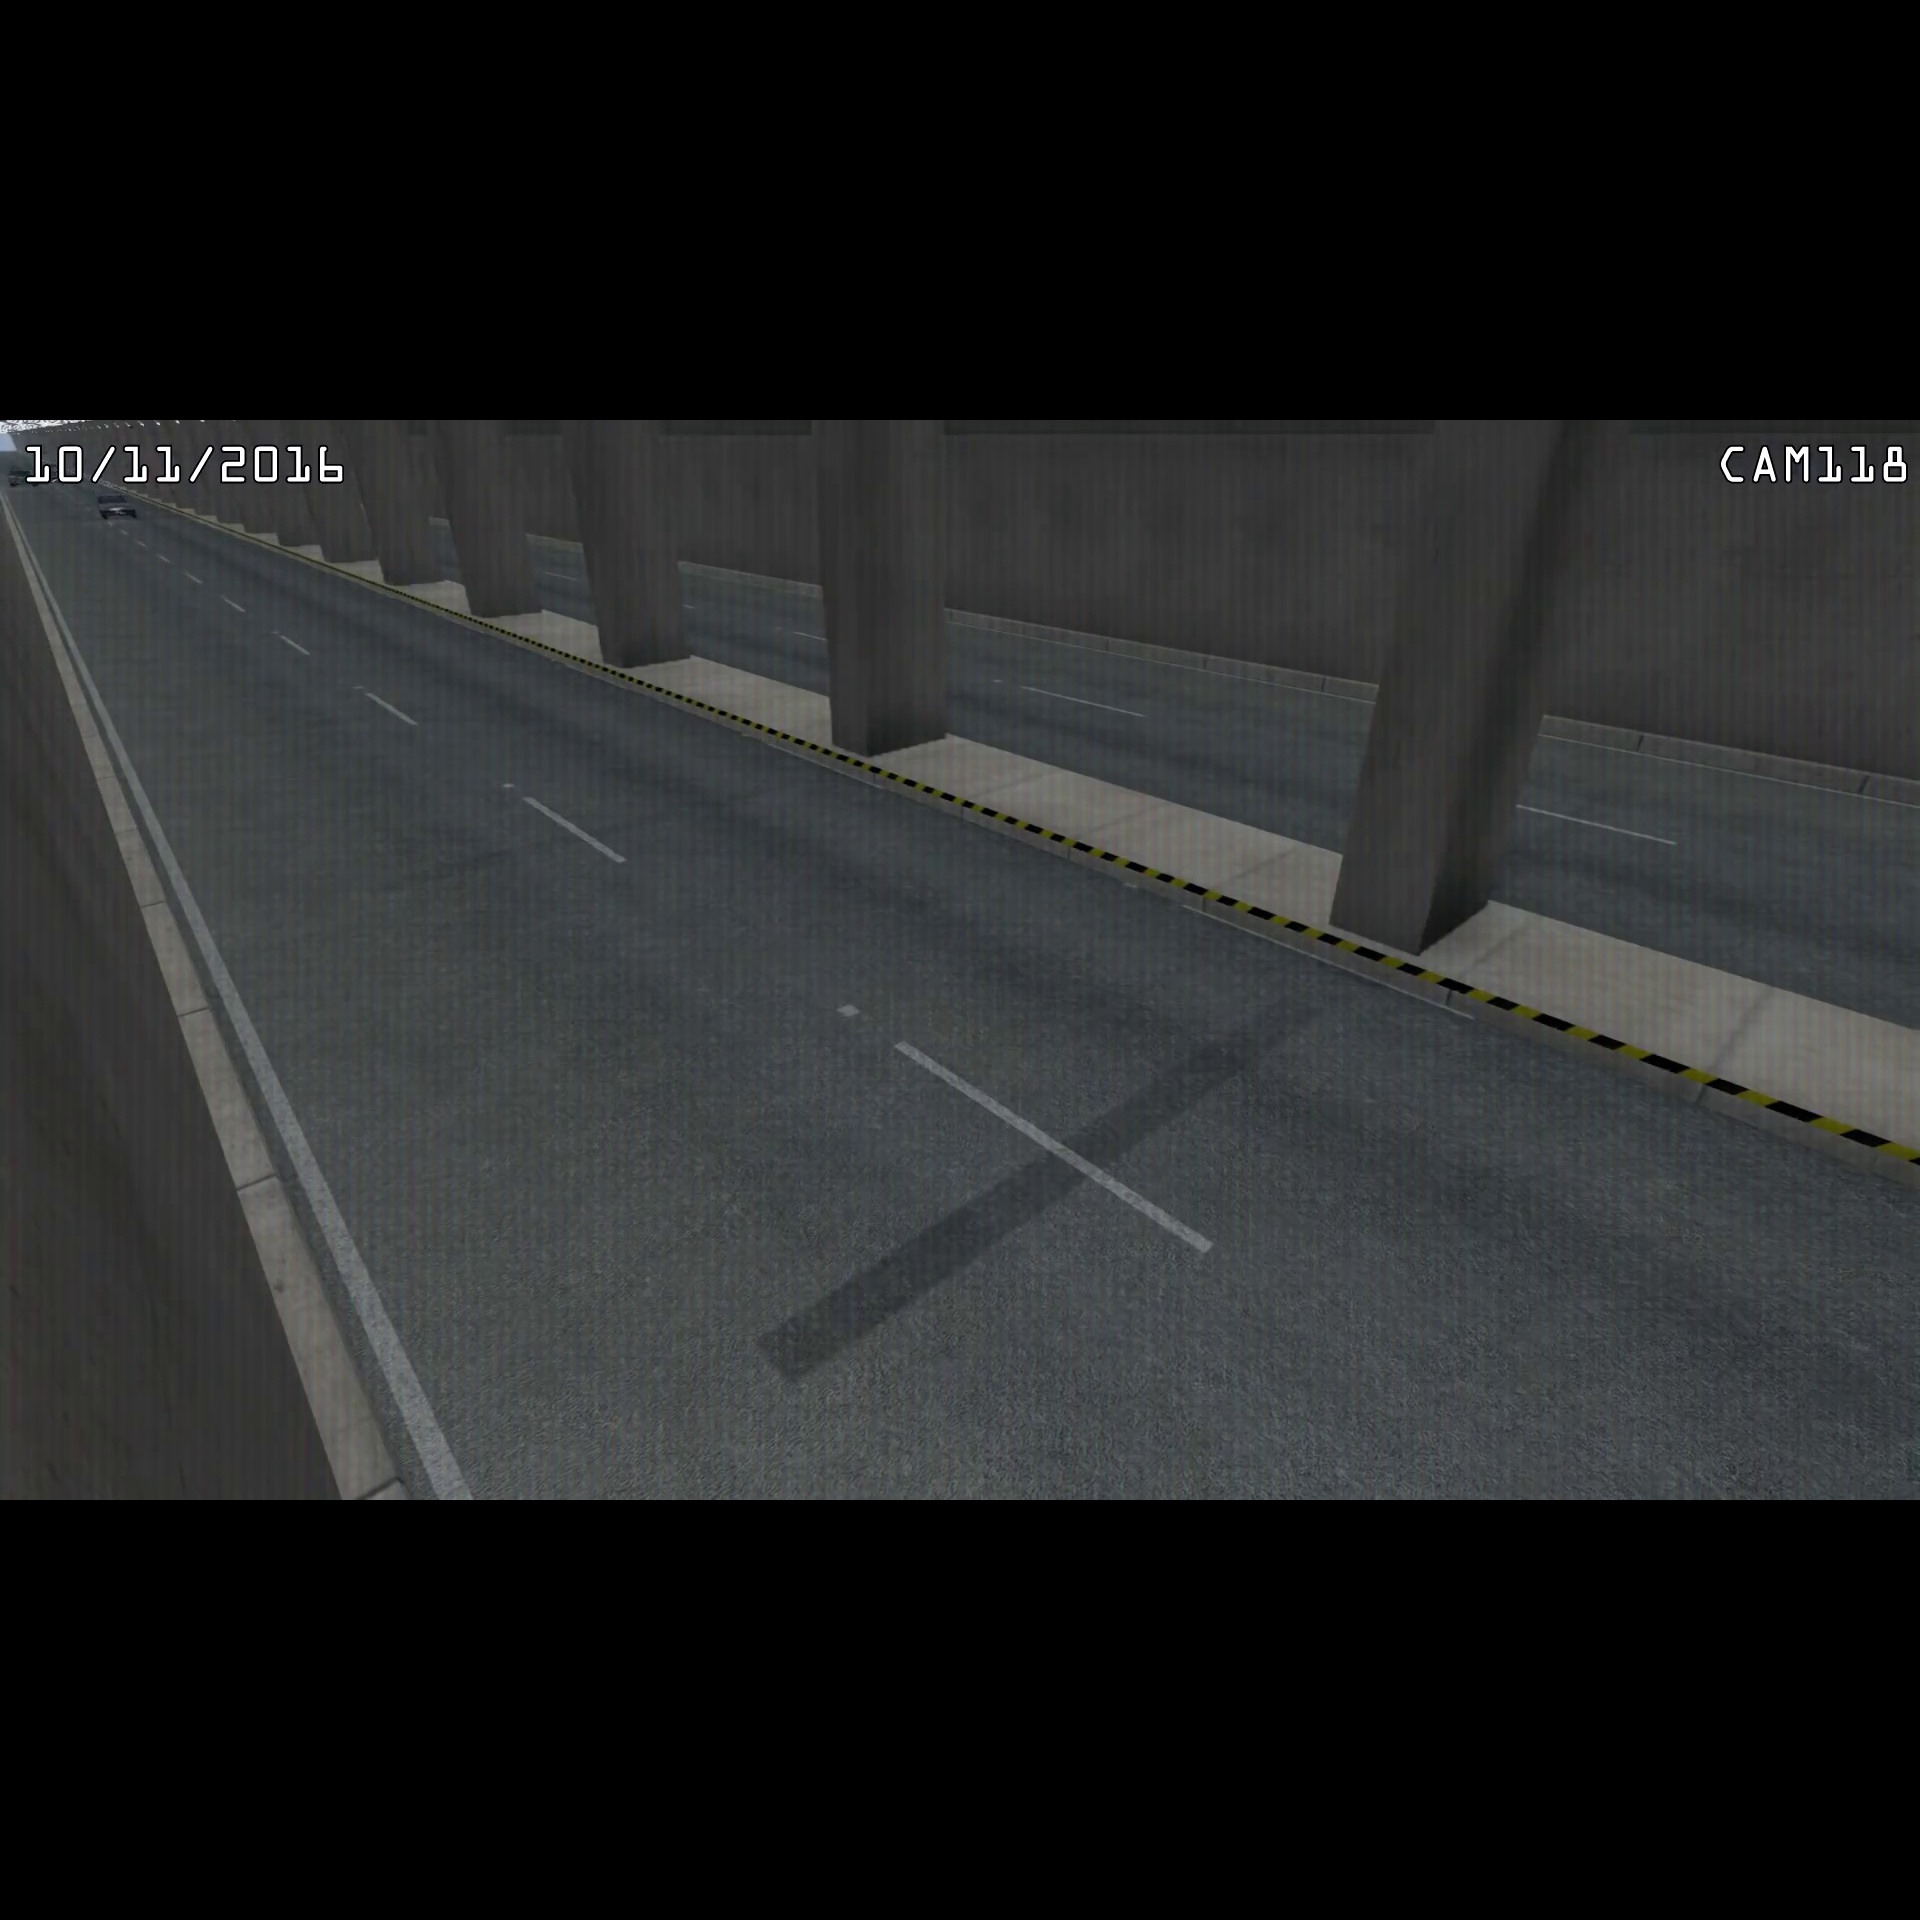vehicle: (93, 489, 148, 522)
